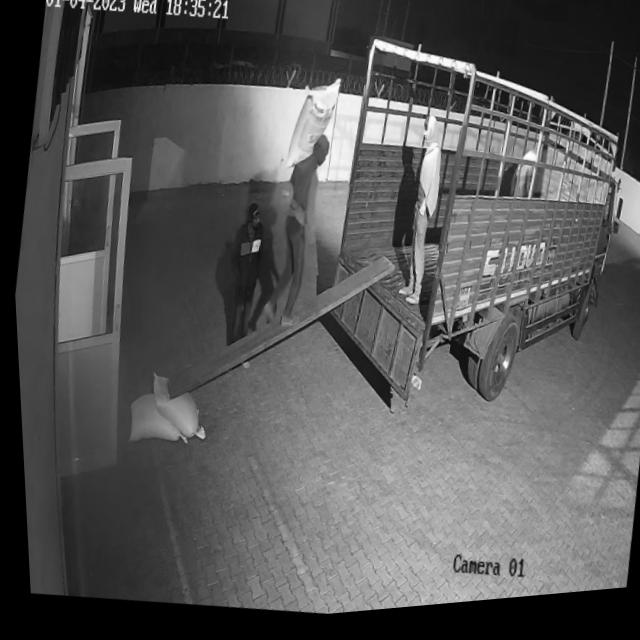sack: (279, 75, 345, 180), (139, 372, 210, 446), (120, 390, 189, 452)
